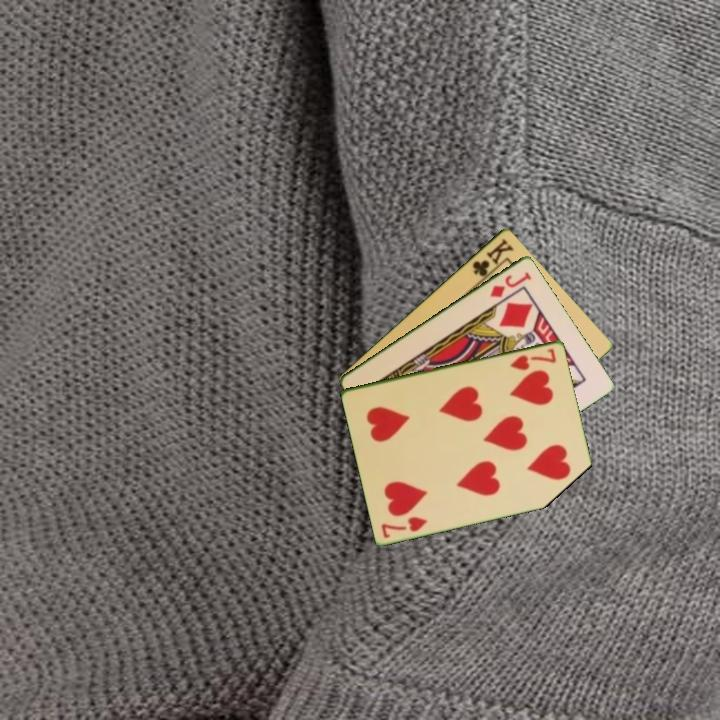7h: (507, 344, 559, 373), (378, 513, 430, 541)
Jd: (486, 268, 535, 300)
Kc: (469, 234, 517, 285)
